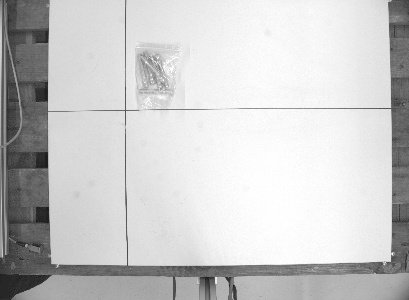t2: (131, 39, 187, 118)
